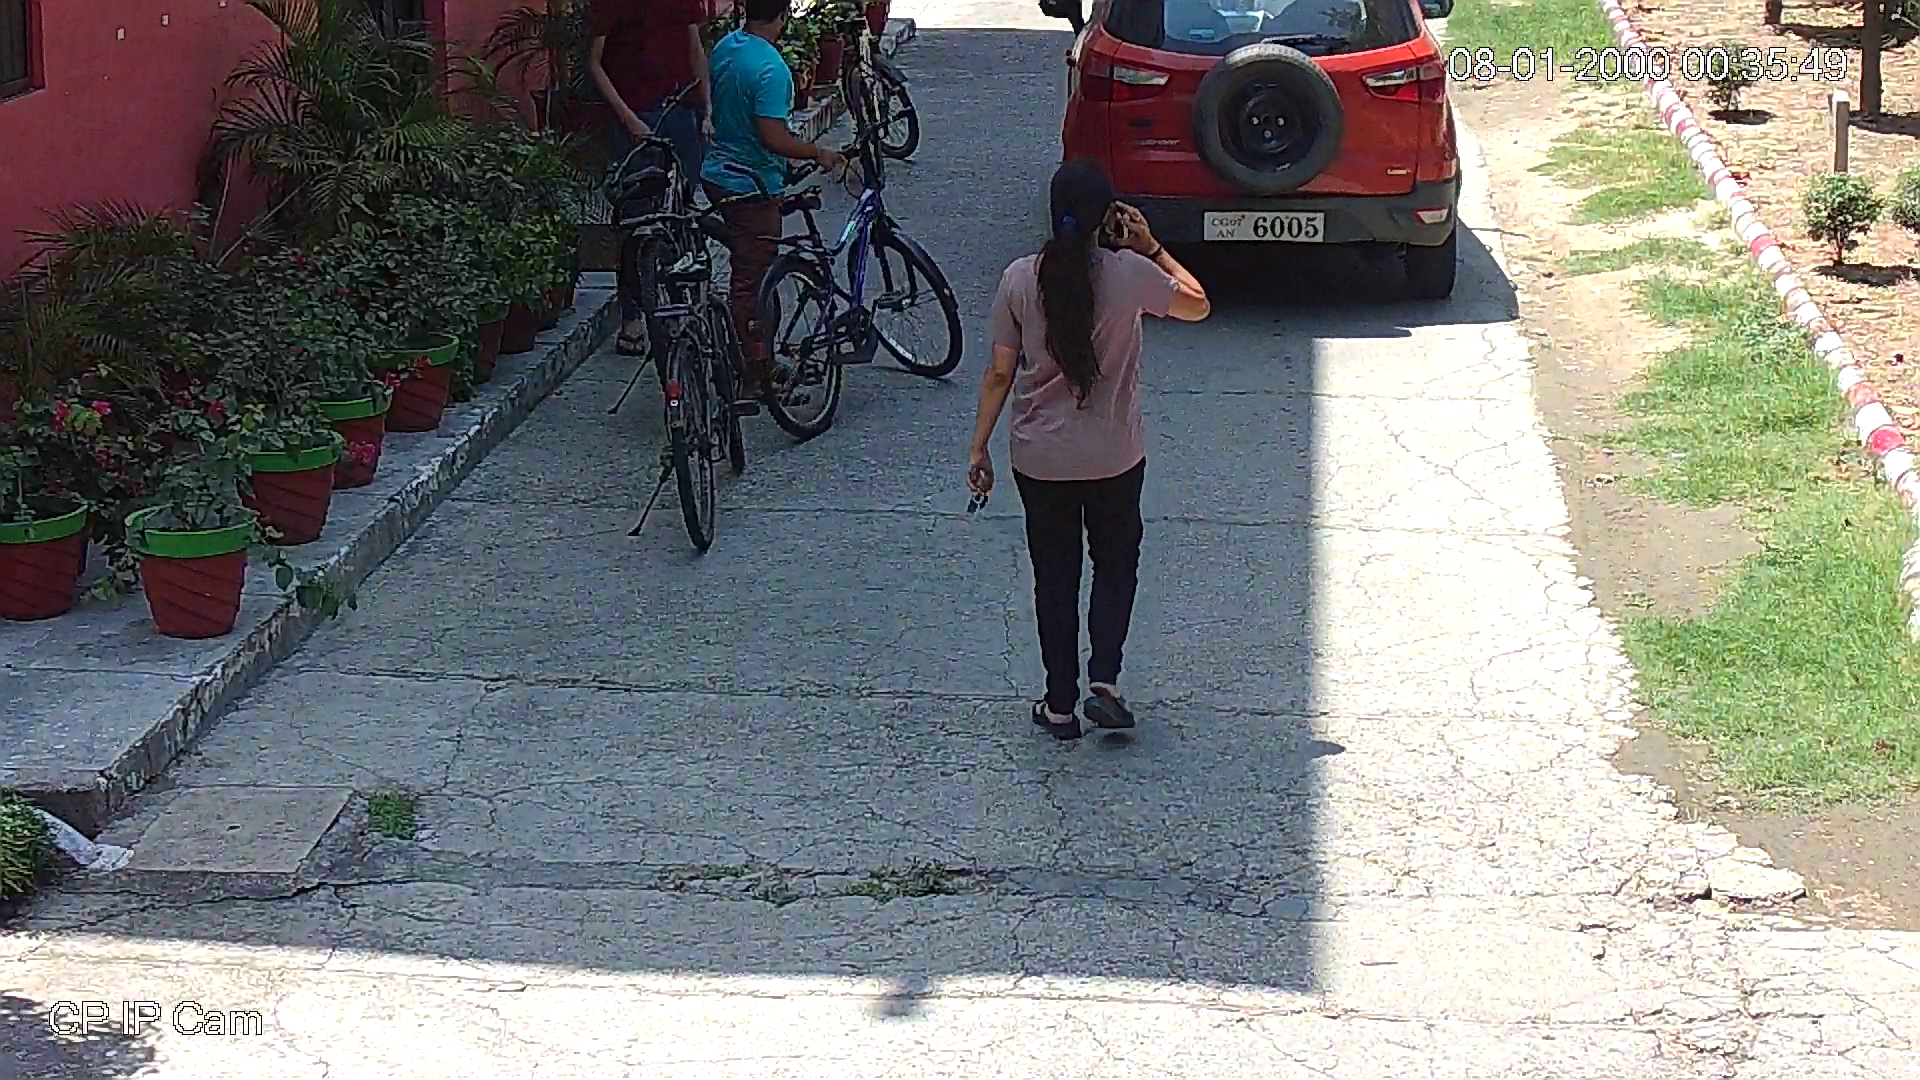plate: (1192, 204, 1332, 249), (1339, 282, 1340, 284)
